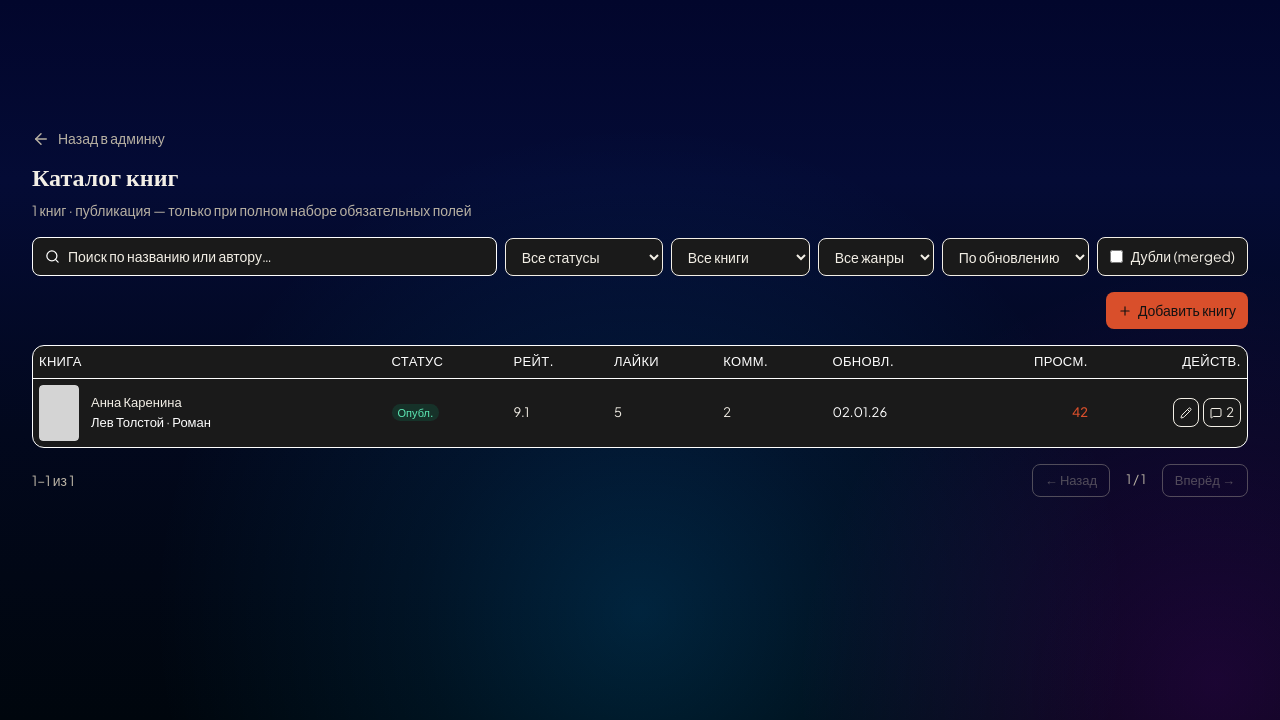
Test: AdminBooksPage (Фаза 7) › клик по названию открывает модалку редактирования
Click the button with aria-label "Редактировать название: Анна Каренина" at [151, 403], box top-left (91, 393), bottom-right (211, 413)
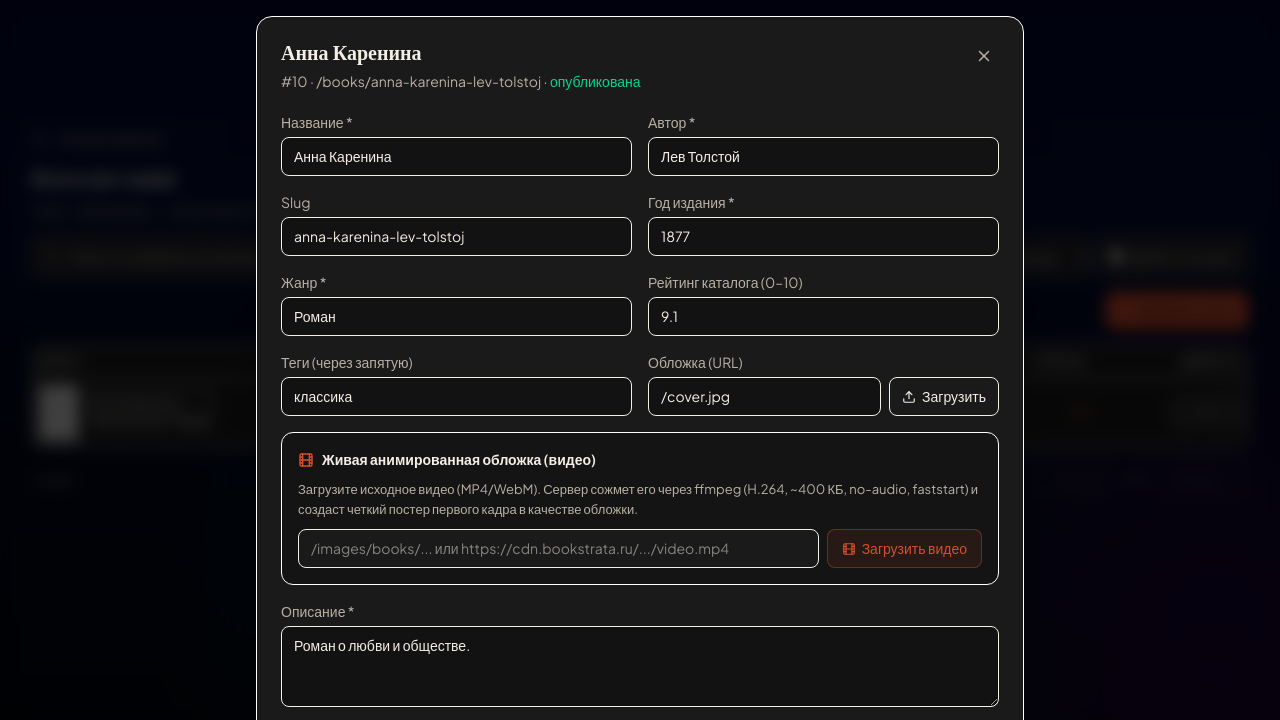
Now the number field showing "1877" is shown, box top-left (648, 217), bottom-right (999, 256)
